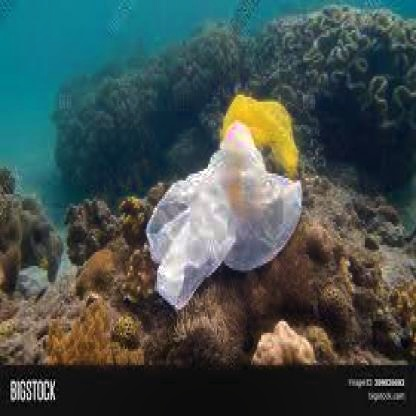pbag: (144, 118, 315, 310), (217, 90, 302, 171)
